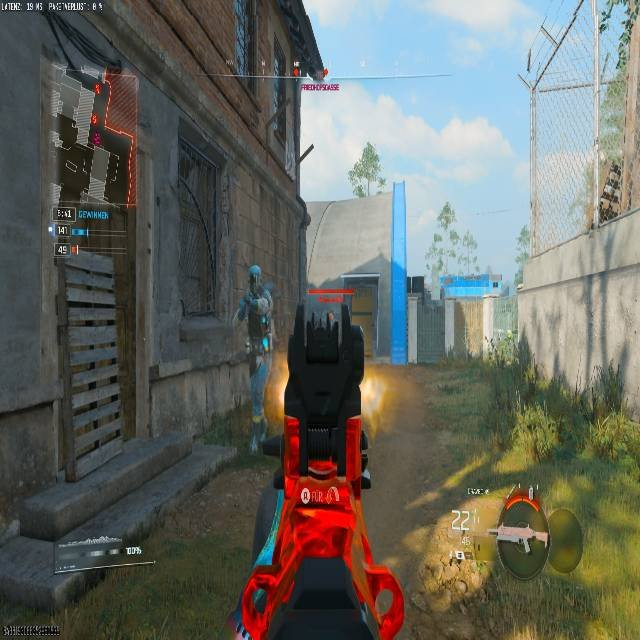player: (241, 266, 271, 365)
